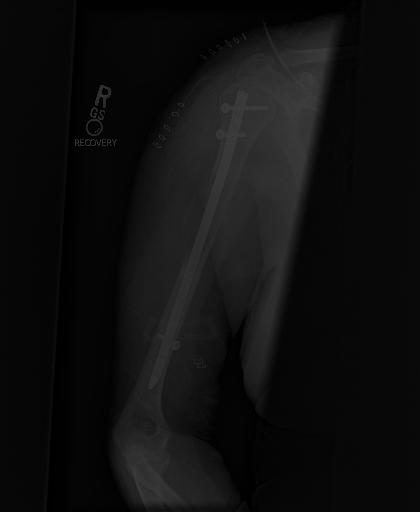implant: (214, 87, 267, 145), (145, 325, 182, 391)
